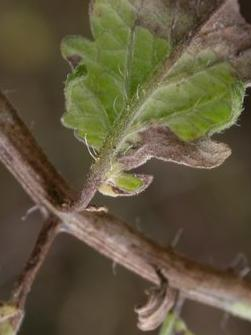Tomato leaf late blight: (50, 0, 251, 193)
